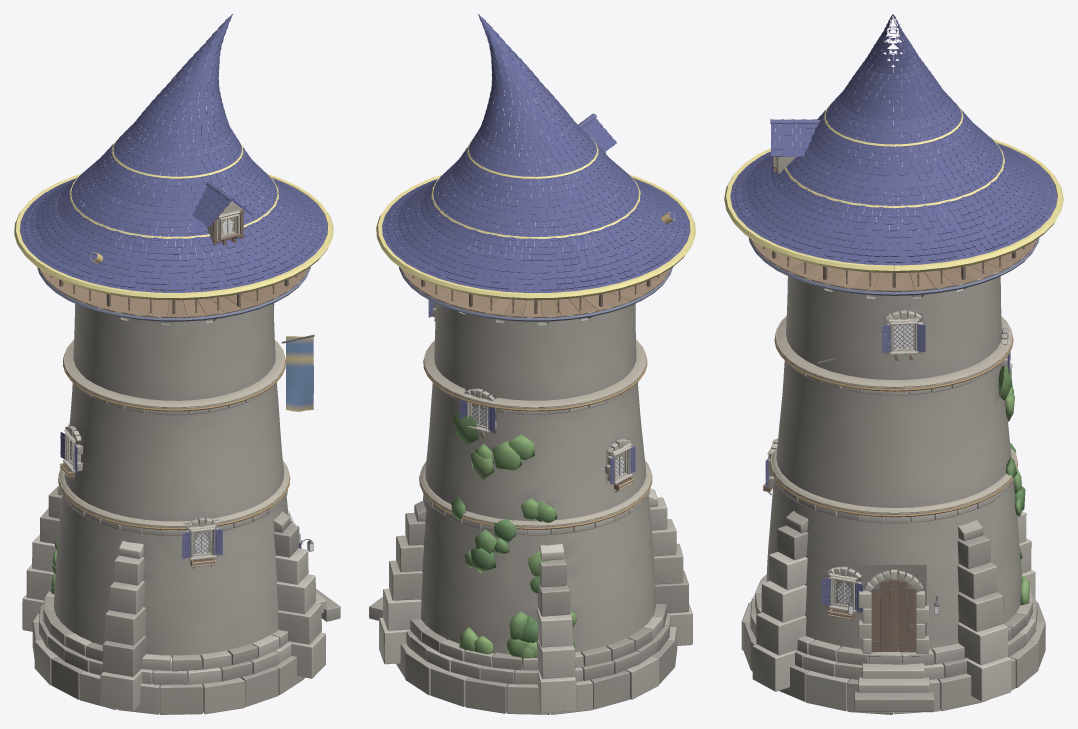
File: bd_moratower.glb
3 views of the same model, side by side, from view 1: azimuth 30°, elevation 25°; view 2: azimuth 150°, elevation 25°; view 3: azimuth 270°, elevation 25° (orthographic). The views are drawn at different scales.
Parts seen in each view (by area): view 1: BD_moratower__body; view 2: BD_moratower__body; view 3: BD_moratower__body.
Boxes of the visible parts, bbox=[...] form: BD_moratower__body: bbox=[14, 14, 340, 714]; BD_moratower__body: bbox=[369, 14, 695, 714]; BD_moratower__body: bbox=[724, 14, 1063, 714].
Bounding box in the file's own units: 11.88 × 24.81 × 11.45.
